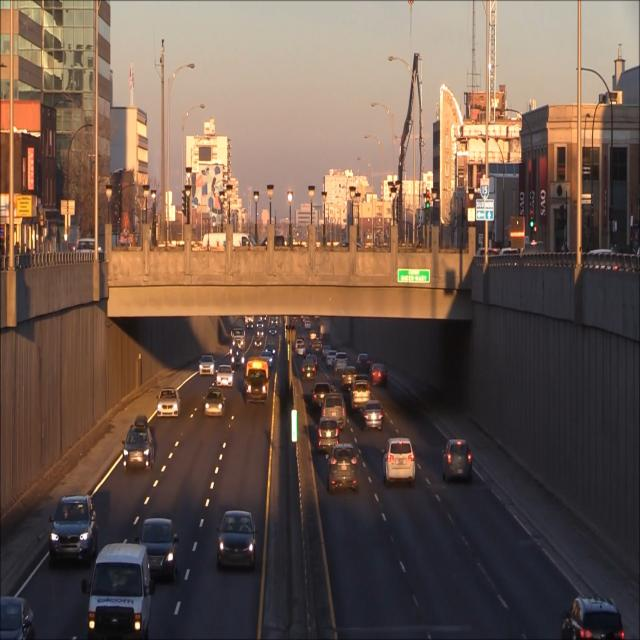Car: (88, 547, 152, 638), (50, 493, 99, 565), (218, 506, 257, 574), (141, 518, 178, 577), (122, 419, 156, 478), (382, 436, 416, 486), (327, 444, 359, 494), (442, 438, 472, 484), (245, 358, 270, 404), (322, 393, 347, 430), (316, 417, 340, 452), (156, 388, 182, 418), (361, 402, 385, 434), (203, 387, 226, 420), (350, 381, 373, 413), (313, 383, 332, 410), (217, 365, 236, 389), (198, 356, 215, 376)
